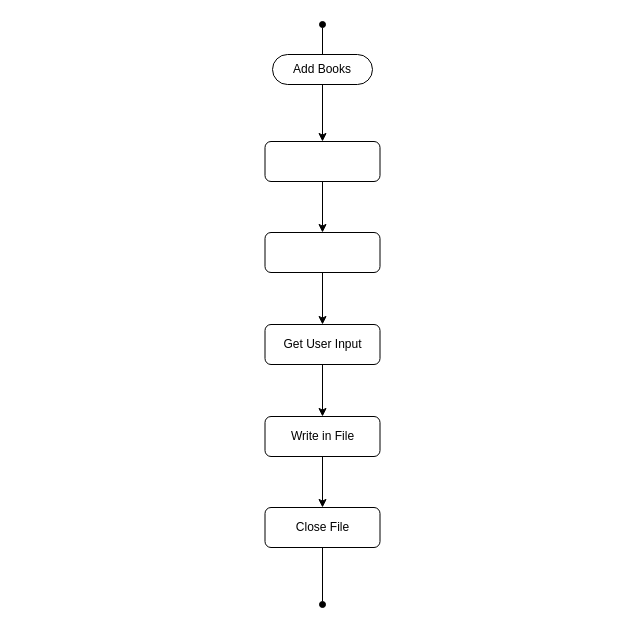
Image size: 644x630. Some labels were removed from this diagram. Here are the shapes that lost their labels. From the top down, the centre of each, then its label:
At (322,161): "Open File".
At (322,252): "Set Cursor to last line".
